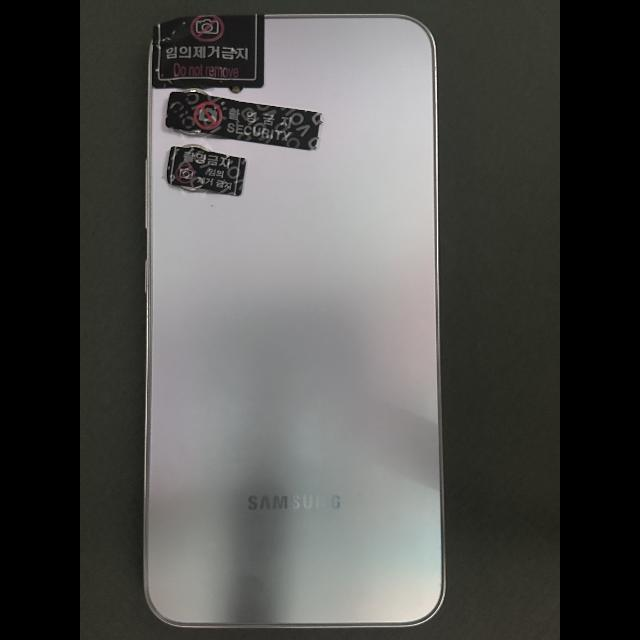lens: (183, 144, 212, 153), (184, 90, 209, 96)
phone: (142, 14, 447, 628)
sticker: (166, 93, 323, 151), (152, 15, 265, 88), (168, 146, 247, 197)
